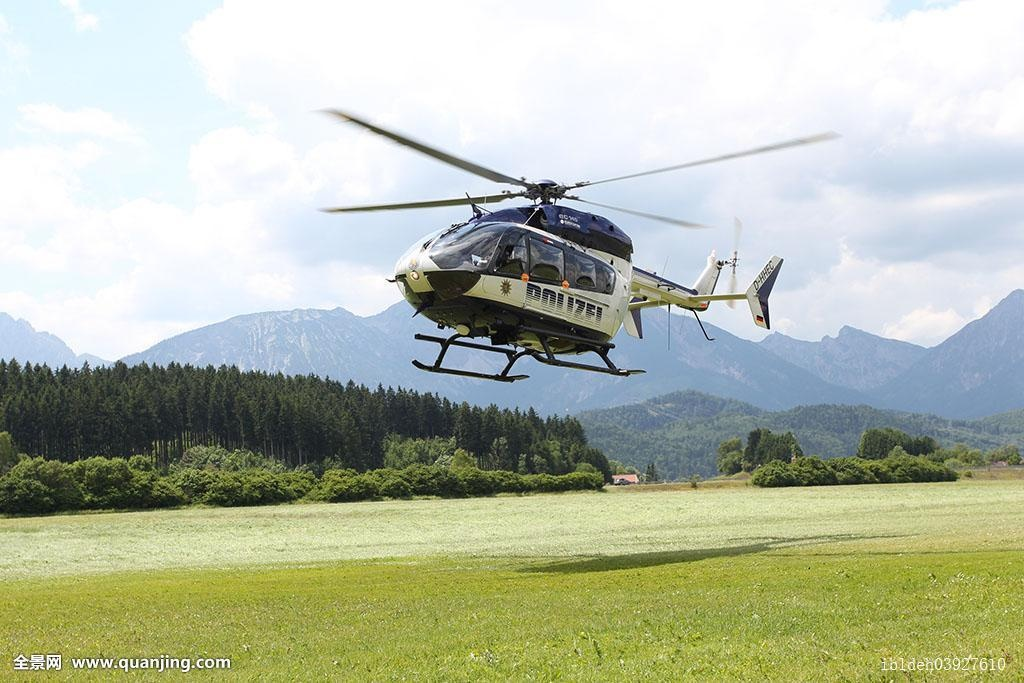airplane: (306, 98, 845, 387)
